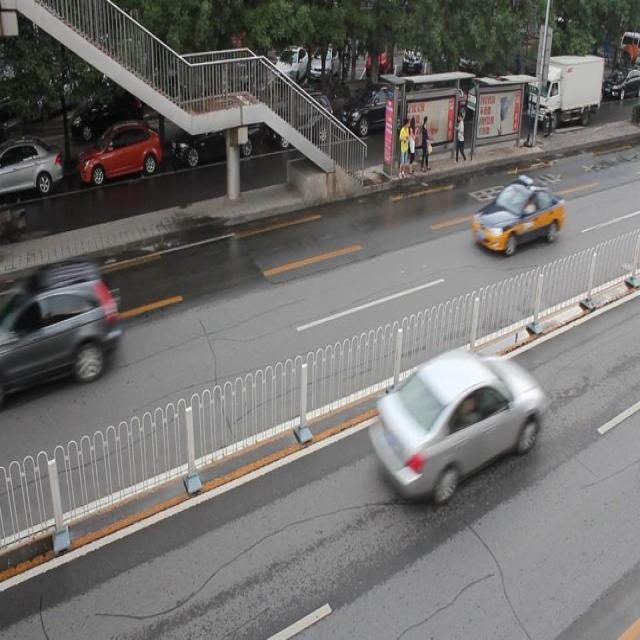bus: (528, 51, 603, 126)
car: (370, 344, 542, 500), (1, 261, 121, 393), (473, 175, 564, 253), (78, 122, 161, 186), (172, 108, 260, 167), (267, 88, 334, 150), (0, 137, 62, 200), (340, 80, 407, 138)
